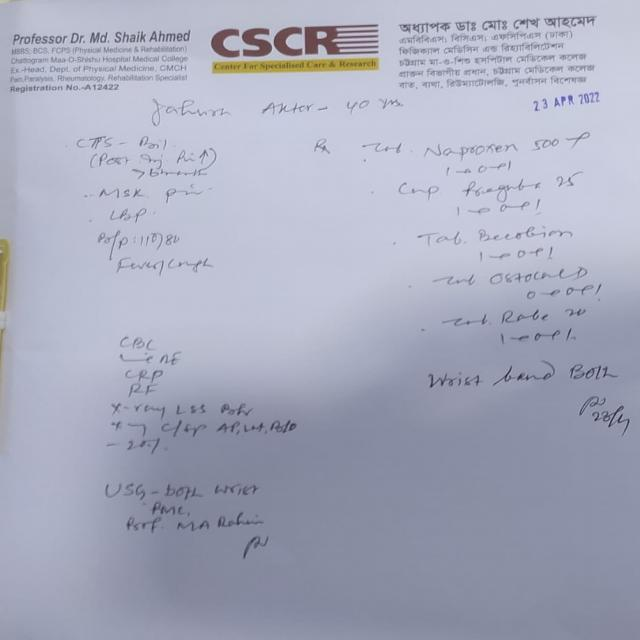Naproxen: (421, 136, 524, 164)
